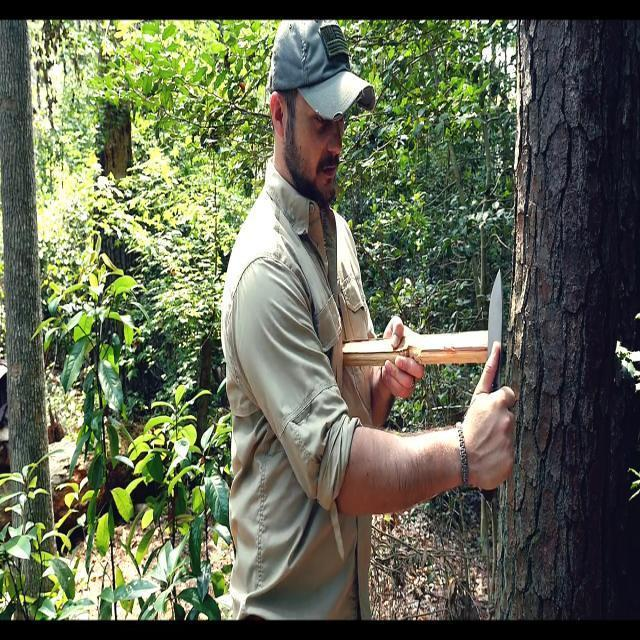-: (469, 261, 520, 471)
